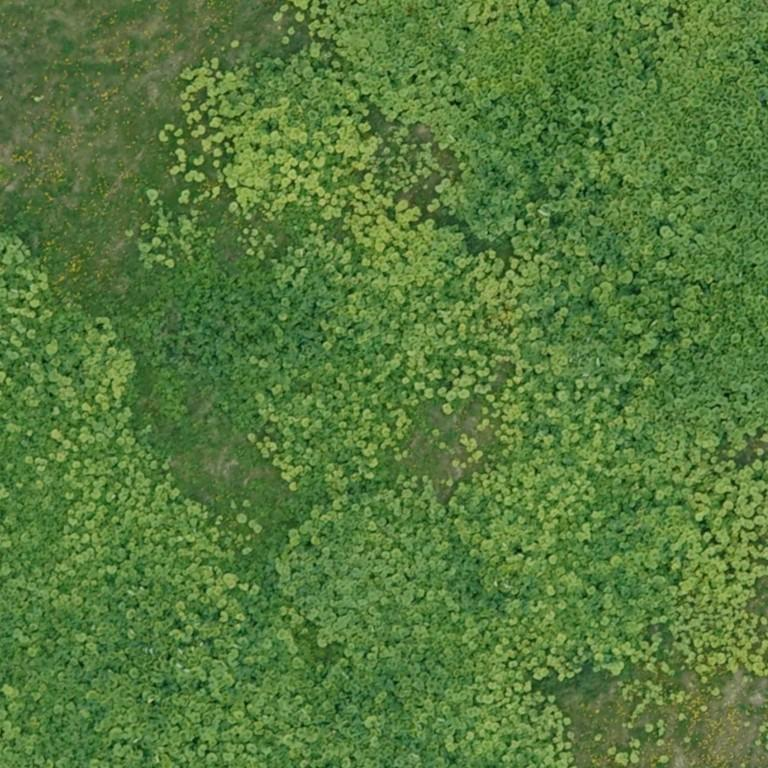hogweed: (140, 269, 278, 380)
